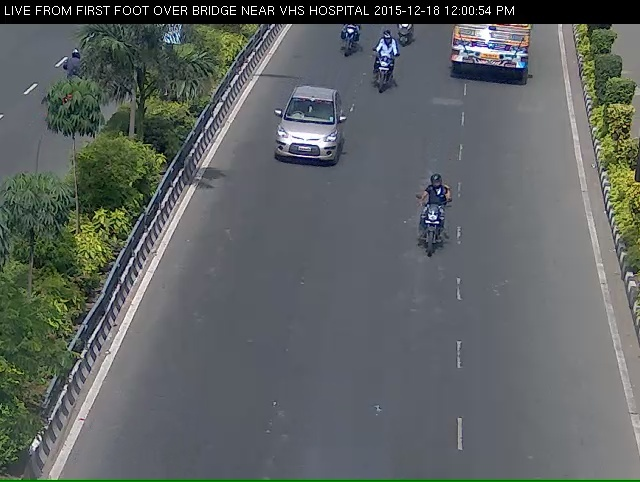Bus: (442, 18, 537, 92)
Car: (268, 98, 339, 179)
Person: (410, 193, 449, 271), (368, 45, 397, 98), (384, 21, 421, 52), (332, 24, 359, 64)
